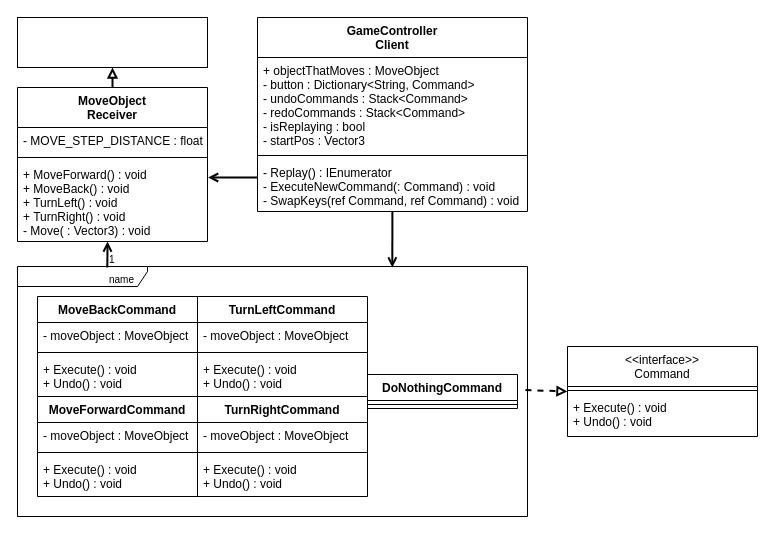
Some shapes in this 775 by 534 pixel diagram are drawn without their labels. The centre of each missing label's shape, as x and y in pixels:
"ConcreteCommands" goes at point 272,391.
"MonoBehaviour" goes at point 112,42.
